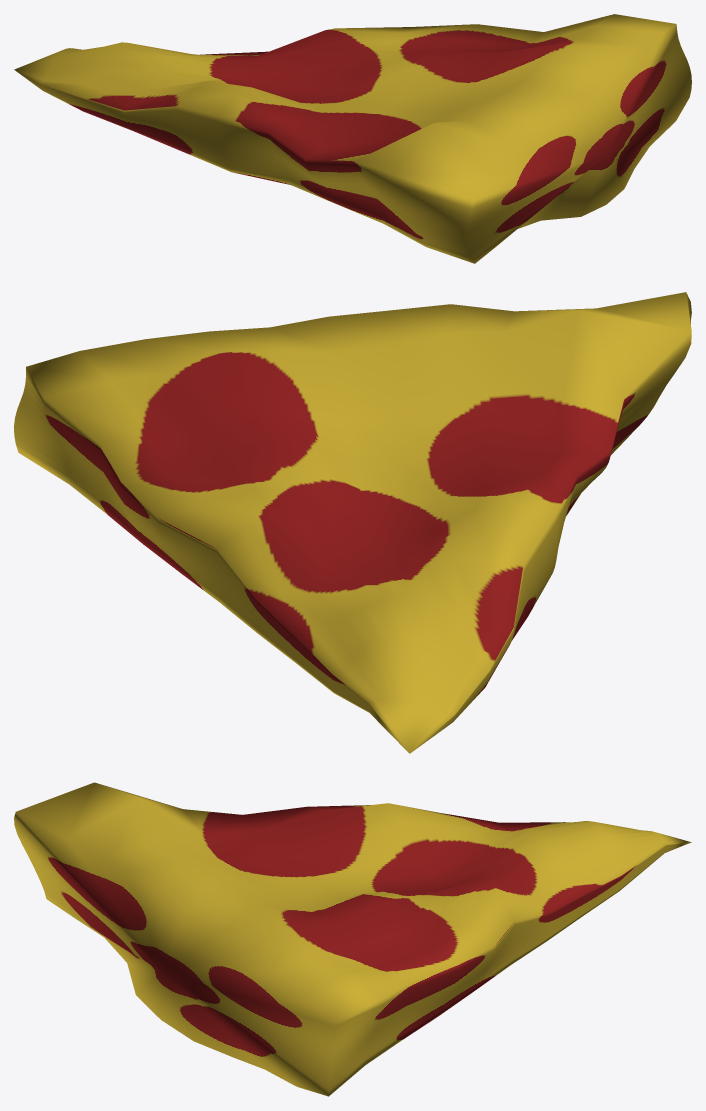
The model's file is HEalth pickup.FBX.
3 views of the same model, one above another, from view 1: azimuth 30°, elevation 25°; view 2: azimuth 150°, elevation 25°; view 3: azimuth 270°, elevation 25° (orthographic). The views are drawn at different scales.
Visible parts, largest first — view 1: Pyramid001; view 2: Pyramid001; view 3: Pyramid001.
Boxes of the visible parts, box(x1,y1,x2,y2) form: Pyramid001: box(14, 14, 691, 263); Pyramid001: box(14, 292, 691, 753); Pyramid001: box(14, 782, 691, 1096).
Size of the model in its own units: 179 by 47.99 by 211.
